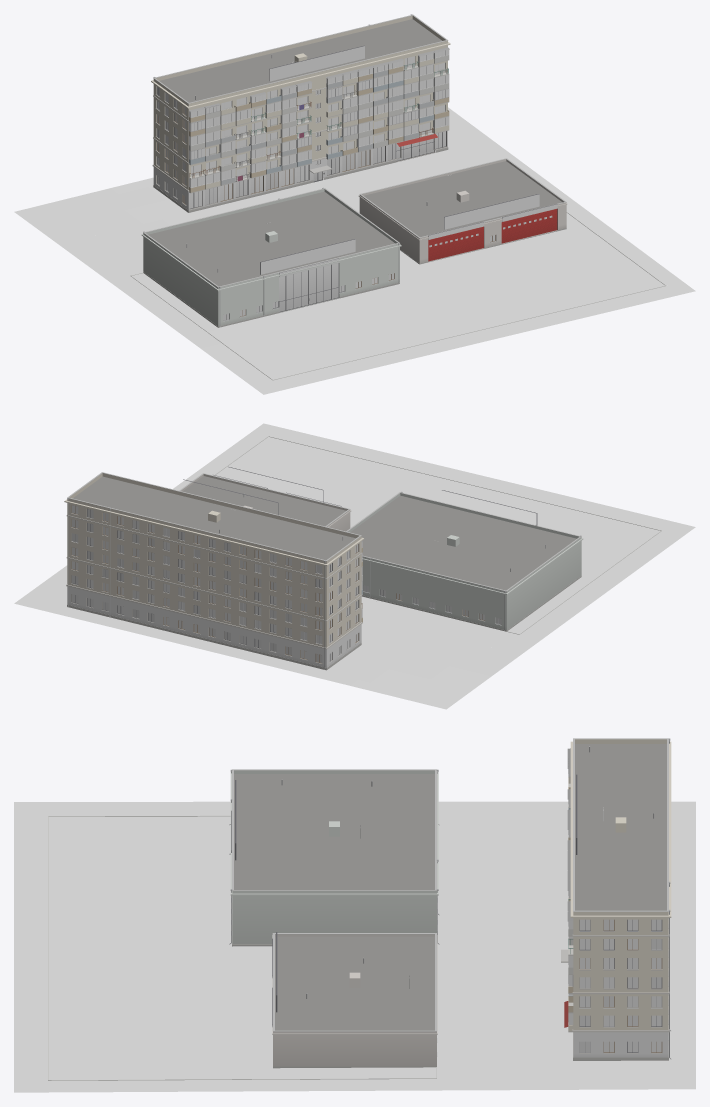
The model's file is chunk_5_0.glb.
3 renders of one model, top to bottom at view 1: azimuth 30°, elevation 25°; view 2: azimuth 150°, elevation 25°; view 3: azimuth 270°, elevation 25°, orthographic. The views are drawn at different scales.
Parts seen in each view (by area): view 1: base, detail; view 2: base, detail; view 3: base, detail.
Boxes of the visible parts, <box> form: base: <box>14,14,695,394</box>; detail: <box>143,14,557,327</box>; base: <box>14,423,695,709</box>; detail: <box>67,466,581,669</box>; base: <box>14,738,695,1092</box>; detail: <box>229,738,670,1058</box>.
Size of what is drawn, in the model's own units: 100 by 28.21 by 100.
